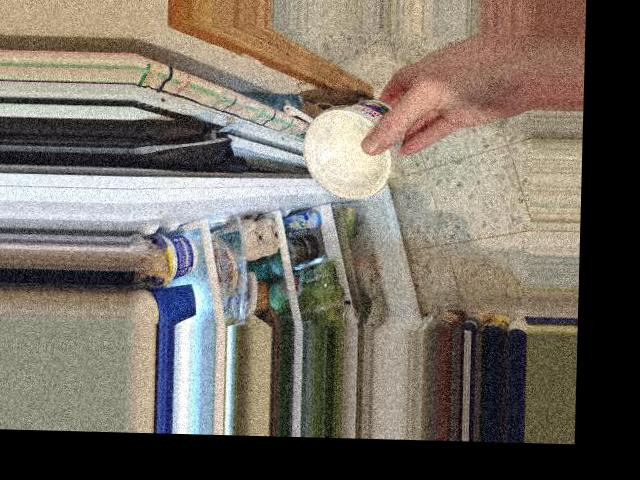cotage: (298, 84, 413, 202)
